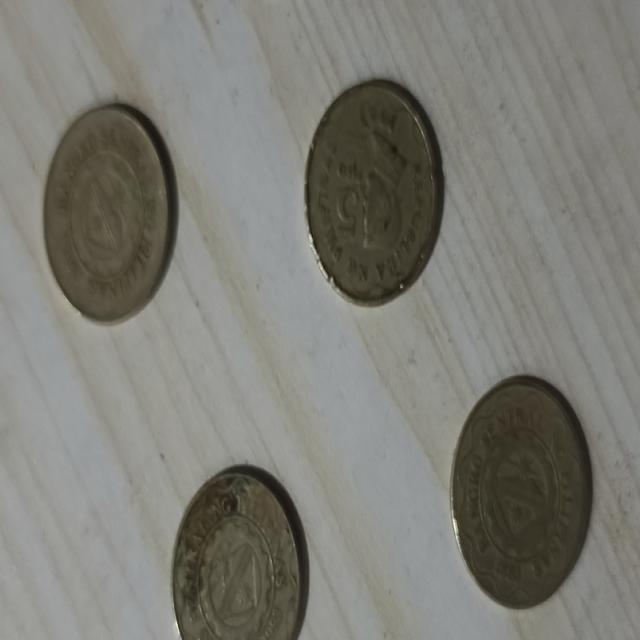5_peso: (452, 376, 591, 608), (305, 81, 442, 303), (45, 107, 172, 321), (172, 468, 306, 639)
